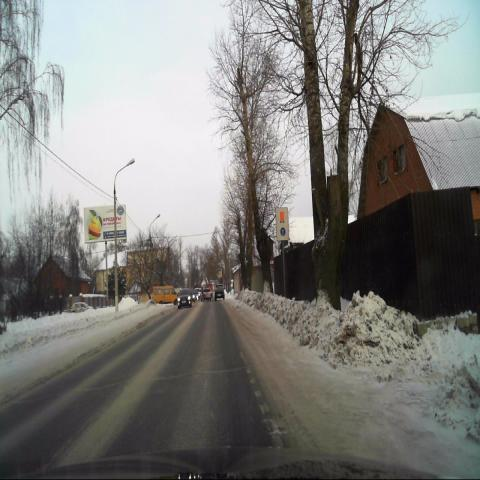4_8_2: (275, 206, 289, 241)
